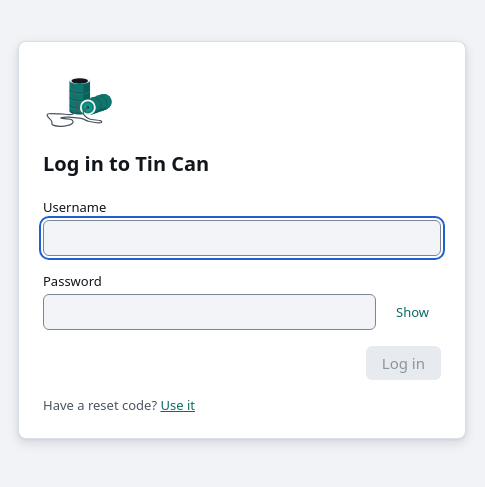
login › counts down when rate limited and disables the button meanwhile
The image size is (485, 487).
Type "mika" into the field labelled "Username" at (242, 238), box [43,220,441,256]
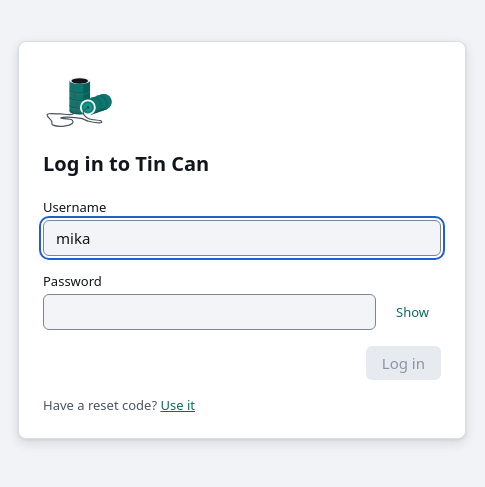
Type "whatever it is" into the password field labelled "Password" at (210, 312), box [43,294,376,330]
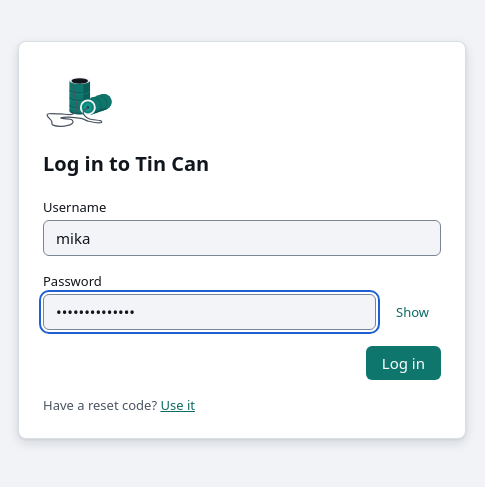
Click the button "Log in" at (403, 363), box [366,346,441,380]
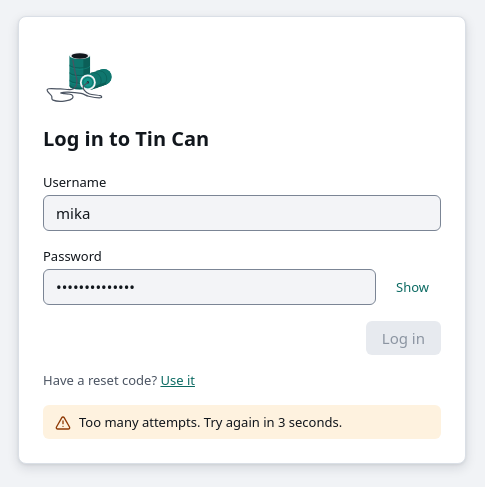
Now the text "Too many attempts. Try again in 3 seconds." is shown, box [79,413,342,431]
Now the button "Log in" is disabled, box [366,321,441,355]
